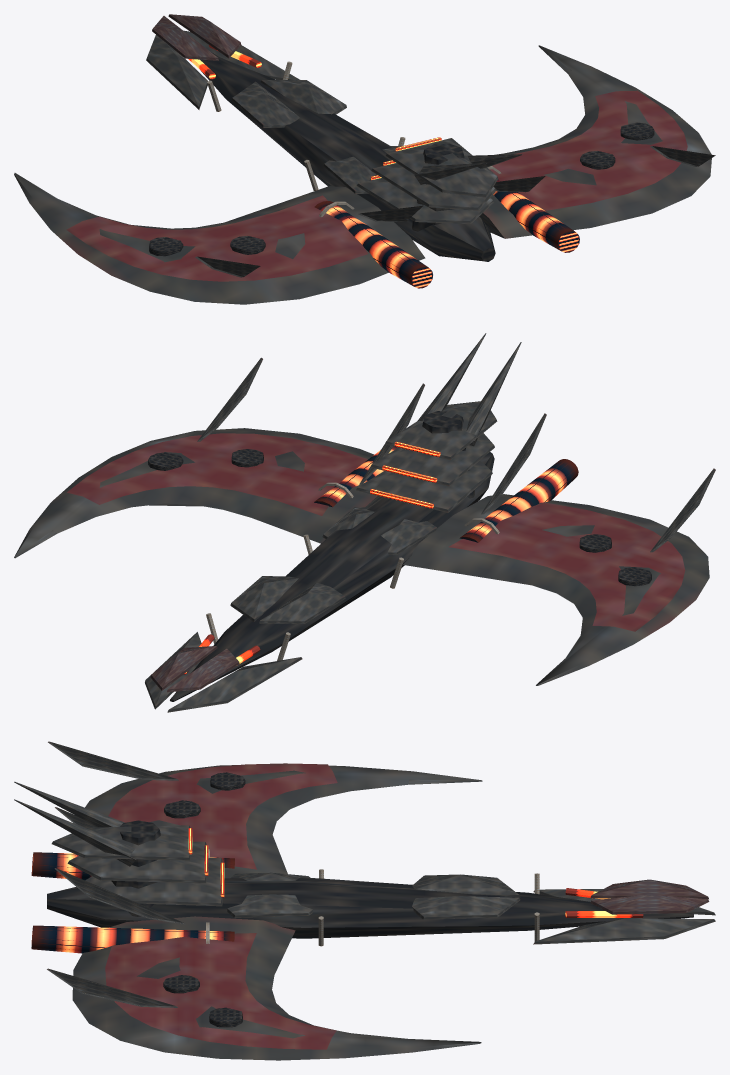
Rendered from dynasty_destroyer_recreated_lod2.glb.
3 renders of one model, top to bottom at view 1: azimuth 30°, elevation 25°; view 2: azimuth 150°, elevation 25°; view 3: azimuth 270°, elevation 25°, orthographic. The views are drawn at different scales.
Visible parts, largest first — view 1: dynasty_destroyer_far_source; view 2: dynasty_destroyer_far_source; view 3: dynasty_destroyer_far_source.
Part boxes in pixels (box(x1,y1,x2,y2)): dynasty_destroyer_far_source: box(14, 14, 715, 304); dynasty_destroyer_far_source: box(14, 333, 715, 712); dynasty_destroyer_far_source: box(14, 741, 715, 1060).
Size of the model in its own units: 1.9 by 0.4212 by 1.9.
Materials: 1 (1 with a texture image).
